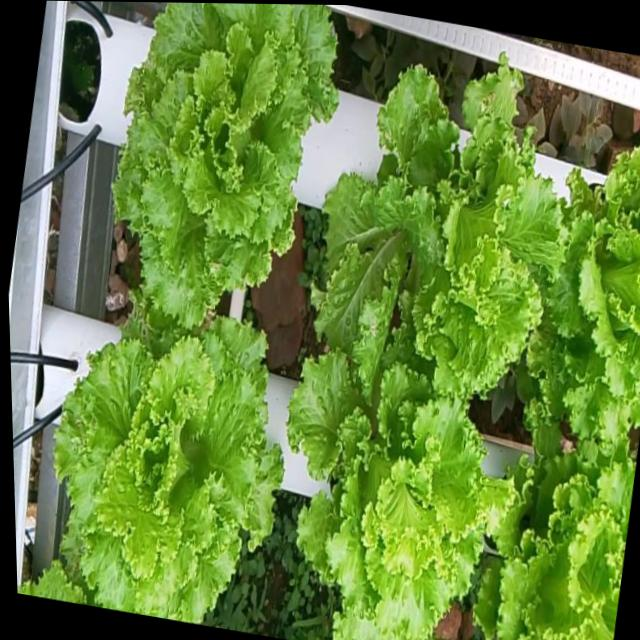Mature: (318, 61, 569, 401), (31, 314, 289, 624), (118, 3, 342, 328), (293, 335, 508, 640), (481, 437, 637, 640), (534, 144, 640, 434)
